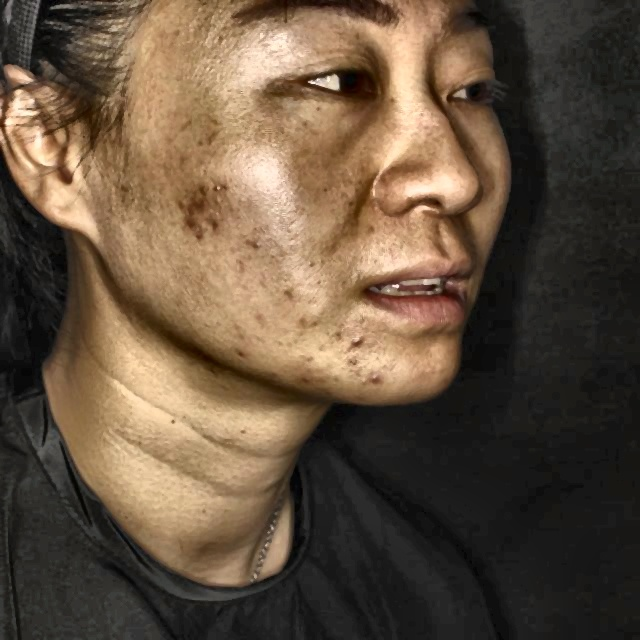pustule: (174, 205, 210, 242), (295, 364, 324, 398), (235, 336, 258, 366), (363, 364, 385, 388), (350, 333, 372, 351), (200, 187, 226, 201)
